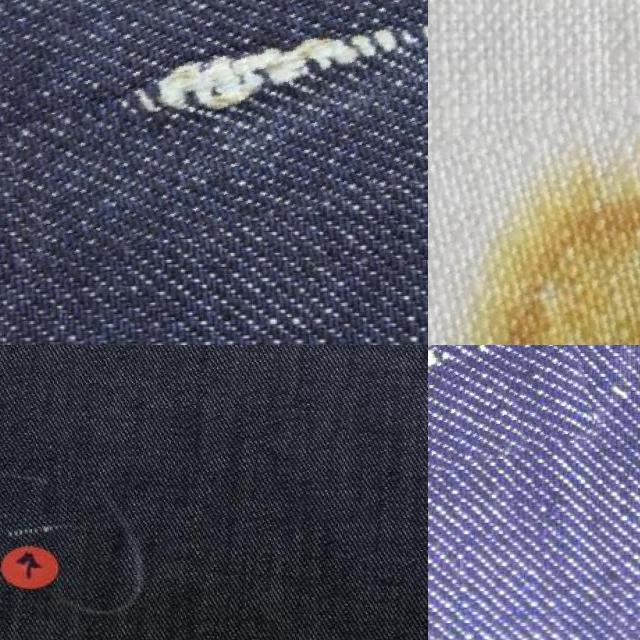Hole: (428, 68, 640, 345)
Thread_other: (428, 345, 592, 530), (0, 488, 83, 549)
